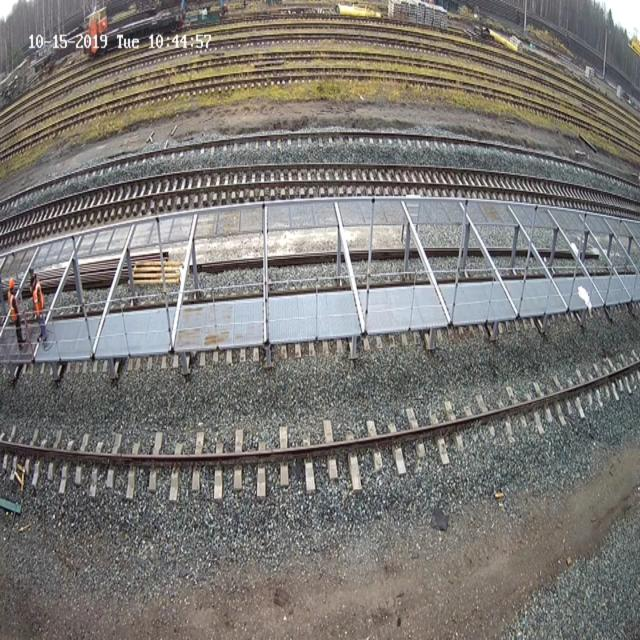Helmet: (9, 277, 15, 289)
Person: (8, 278, 26, 348), (30, 273, 47, 342)
